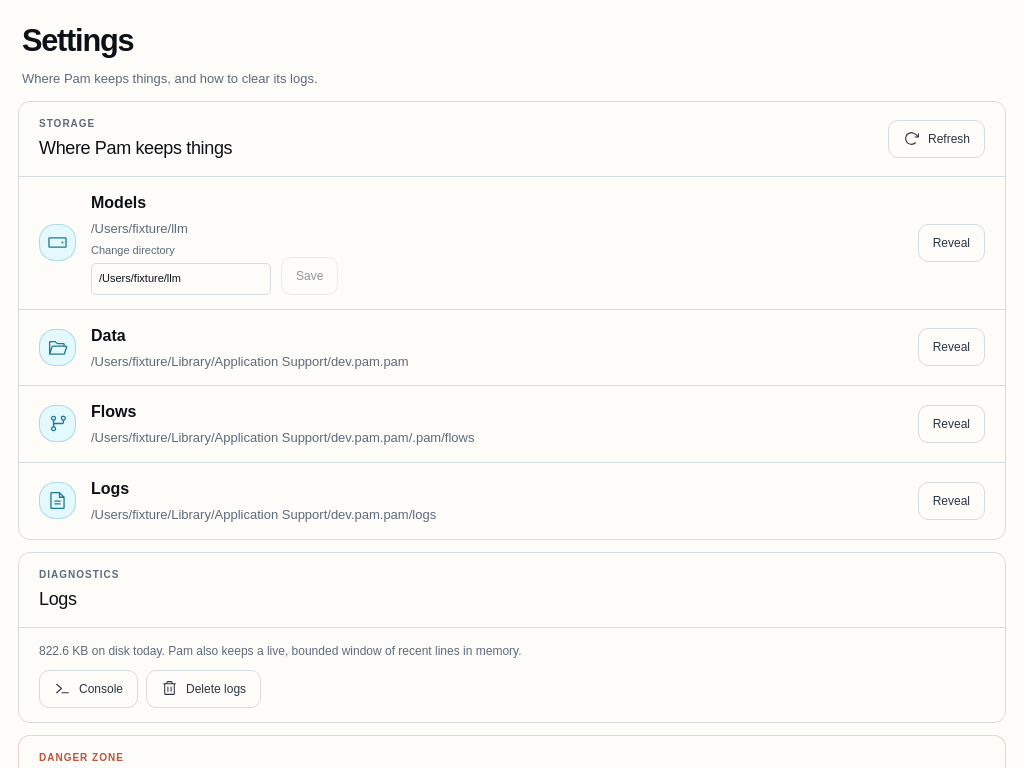
Scenario: SettingsView › round-trips a custom models directory through settingsUpdate
Replace the text in the field labelled "Change directory" with "/Volumes/external/models" at coordinates (181, 279), box 91,263 -> 271,295
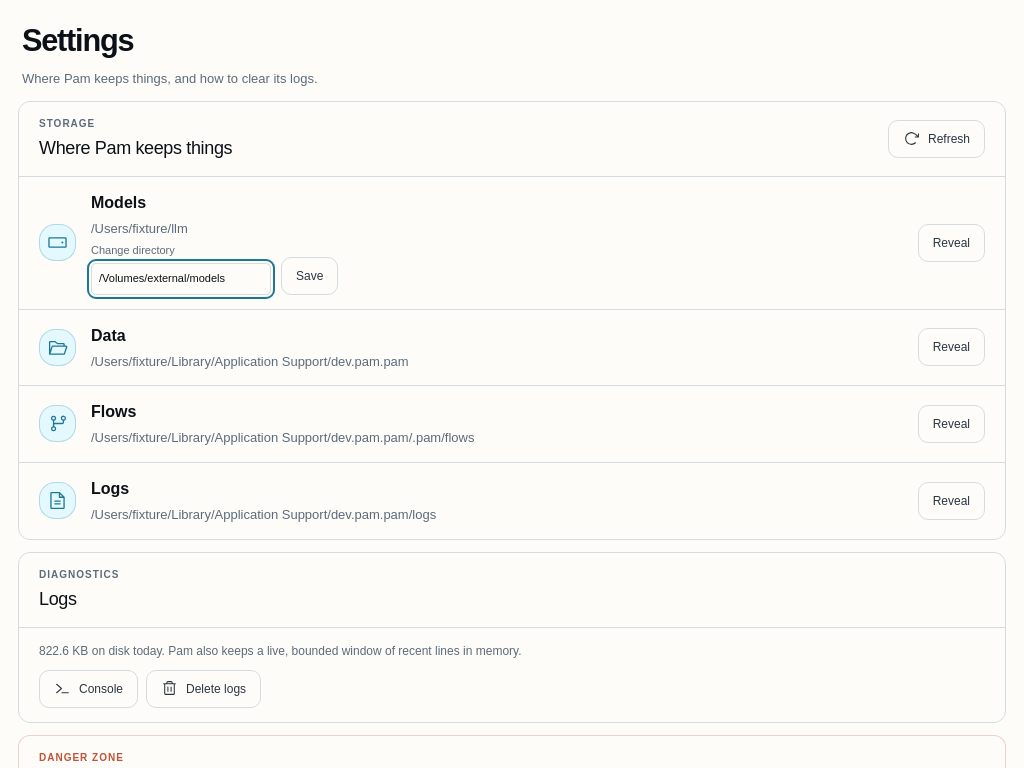
Click the button "Save" at coordinates (310, 276), box 281,257 -> 338,295
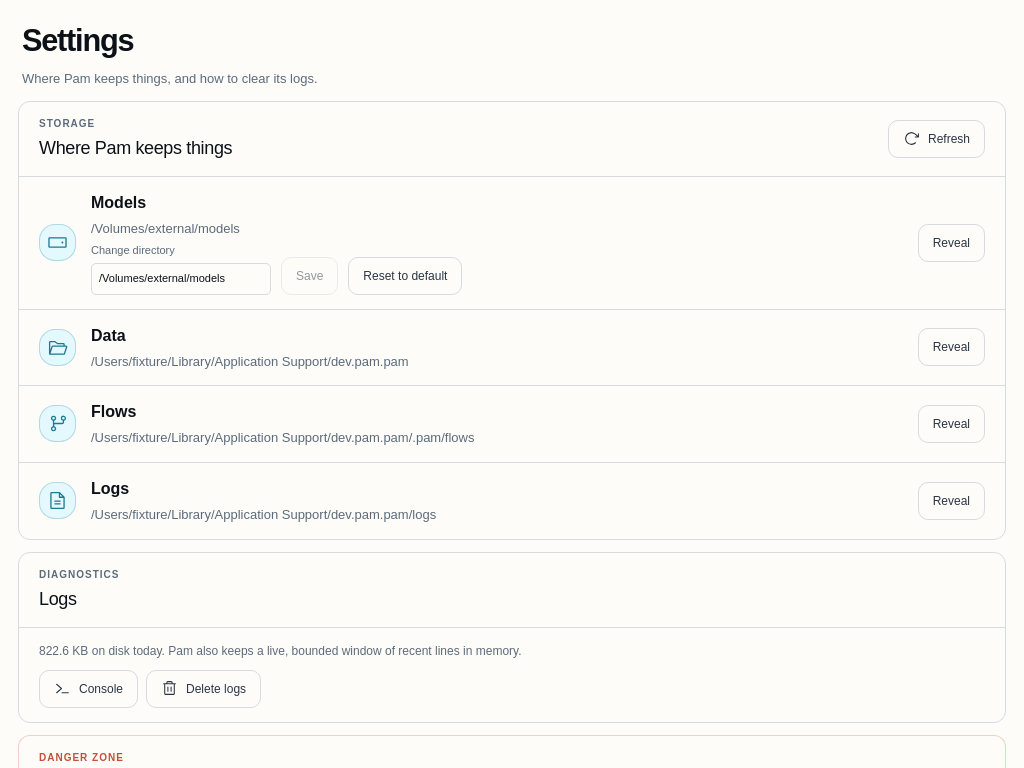
Check: the text "/Volumes/external/models" is shown, box 91,221 -> 240,236
Resetting to default clears the persisted override.
Click the button "Reset to default" at coordinates (405, 276), box 348,257 -> 462,295
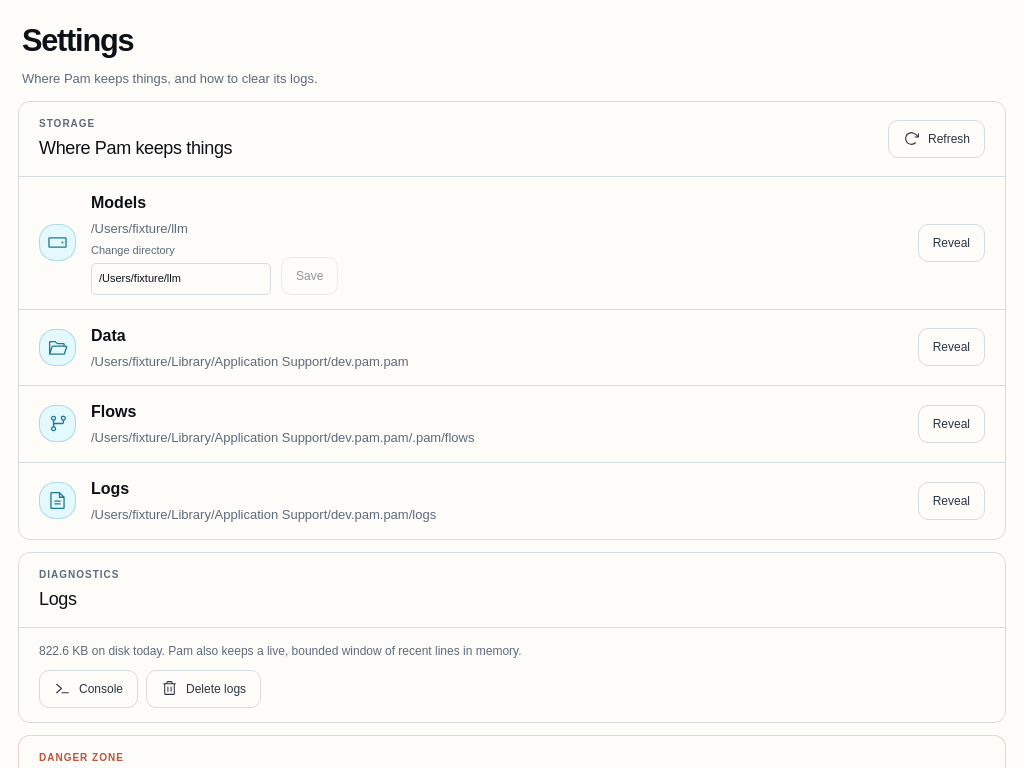
Check: the text "/Users/fixture/llm" is shown, box 91,221 -> 188,236
Check: the button "Reset to default" is gone
